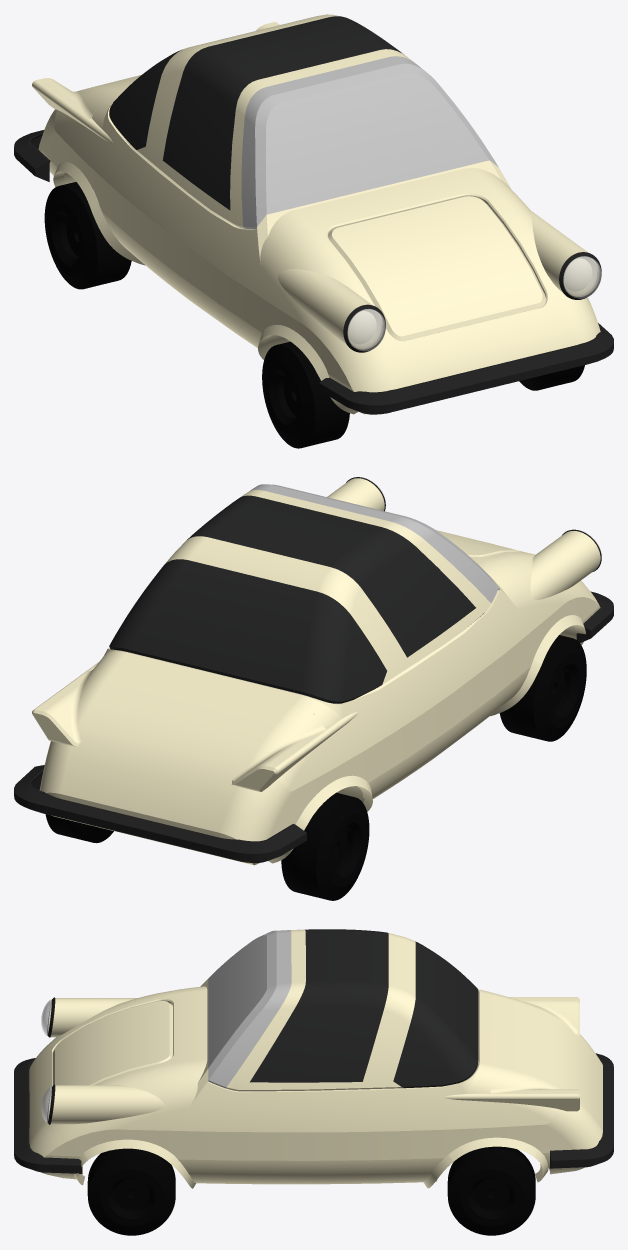
The model's file is r360_mazda.glb.
3 renders of one model, top to bottom at view 1: azimuth 30°, elevation 25°; view 2: azimuth 150°, elevation 25°; view 3: azimuth 270°, elevation 25°, orthographic. The views are drawn at different scales.
Parts seen in each view (by area): view 1: r360_body; view 2: r360_body; view 3: r360_body.
Boxes of the visible parts, bbox=[...] form: r360_body: bbox=[14, 14, 613, 448]; r360_body: bbox=[14, 477, 613, 900]; r360_body: bbox=[14, 929, 613, 1235].
Bounding box in the file's own units: 15.54 × 14.2 × 34.47.
